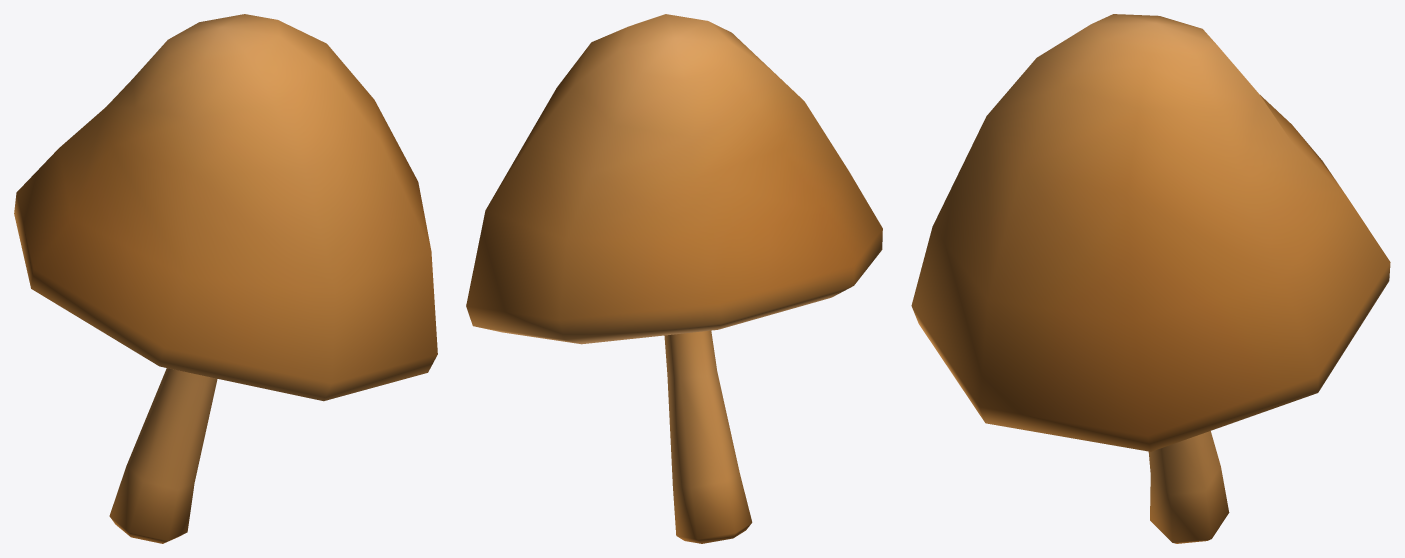
The model's file is SM_EnokiMushroom_B.fbx.
3 views of the same model, side by side, from view 1: azimuth 30°, elevation 25°; view 2: azimuth 150°, elevation 25°; view 3: azimuth 270°, elevation 25° (orthographic). The views are drawn at different scales.
Parts seen in each view (by area): view 1: SM_EnokiMushroom_B; view 2: SM_EnokiMushroom_B; view 3: SM_EnokiMushroom_B.
Boxes of the visible parts, <box> form: SM_EnokiMushroom_B: <box>14,14,437,543</box>; SM_EnokiMushroom_B: <box>466,14,882,543</box>; SM_EnokiMushroom_B: <box>911,14,1390,543</box>.
Bounding box in the file's own units: 19.09 × 24.11 × 19.46.
